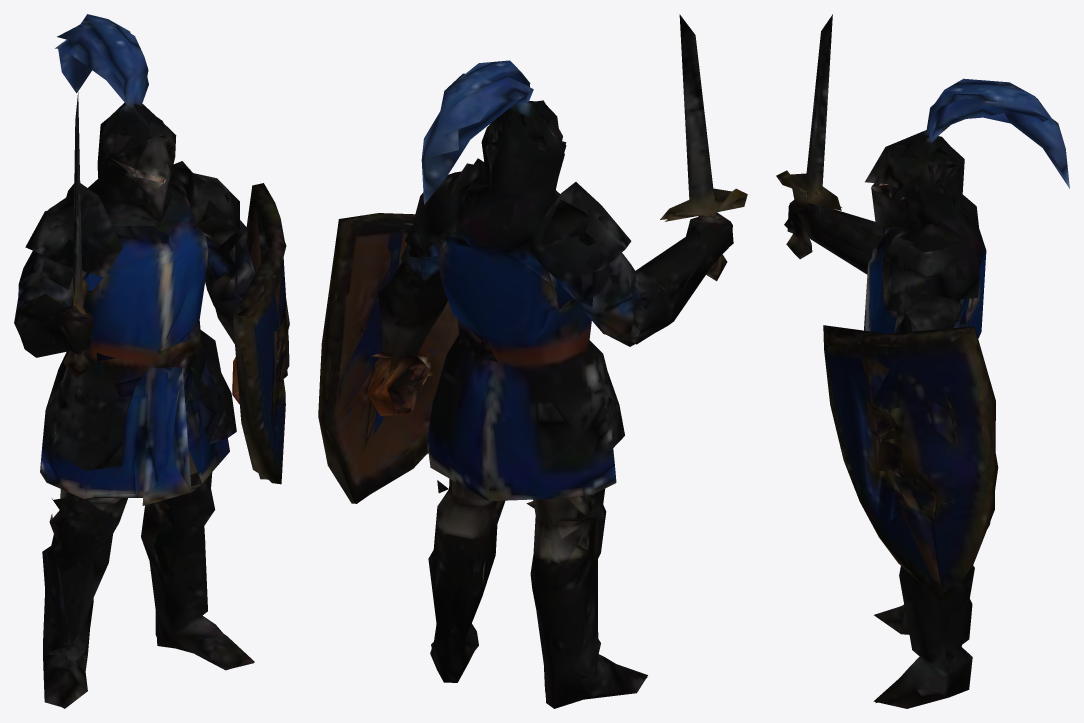
File: detail_9_lo2.glb
3 renders of one model, left to right at view 1: azimuth 30°, elevation 25°; view 2: azimuth 150°, elevation 25°; view 3: azimuth 270°, elevation 25°, orthographic. The views are drawn at different scales.
Visible parts, largest first — view 1: Mesh_0.001; view 2: Mesh_0.001; view 3: Mesh_0.001.
Part boxes in pixels (x1=…): Mesh_0.001: x1=14, y1=14, x2=289, y2=708; Mesh_0.001: x1=318, y1=14, x2=747, y2=708; Mesh_0.001: x1=776, y1=14, x2=1069, y2=708.
Size of the model in its own units: 0.5048 by 0.9998 by 0.4417.
1 material, 1 textured.
